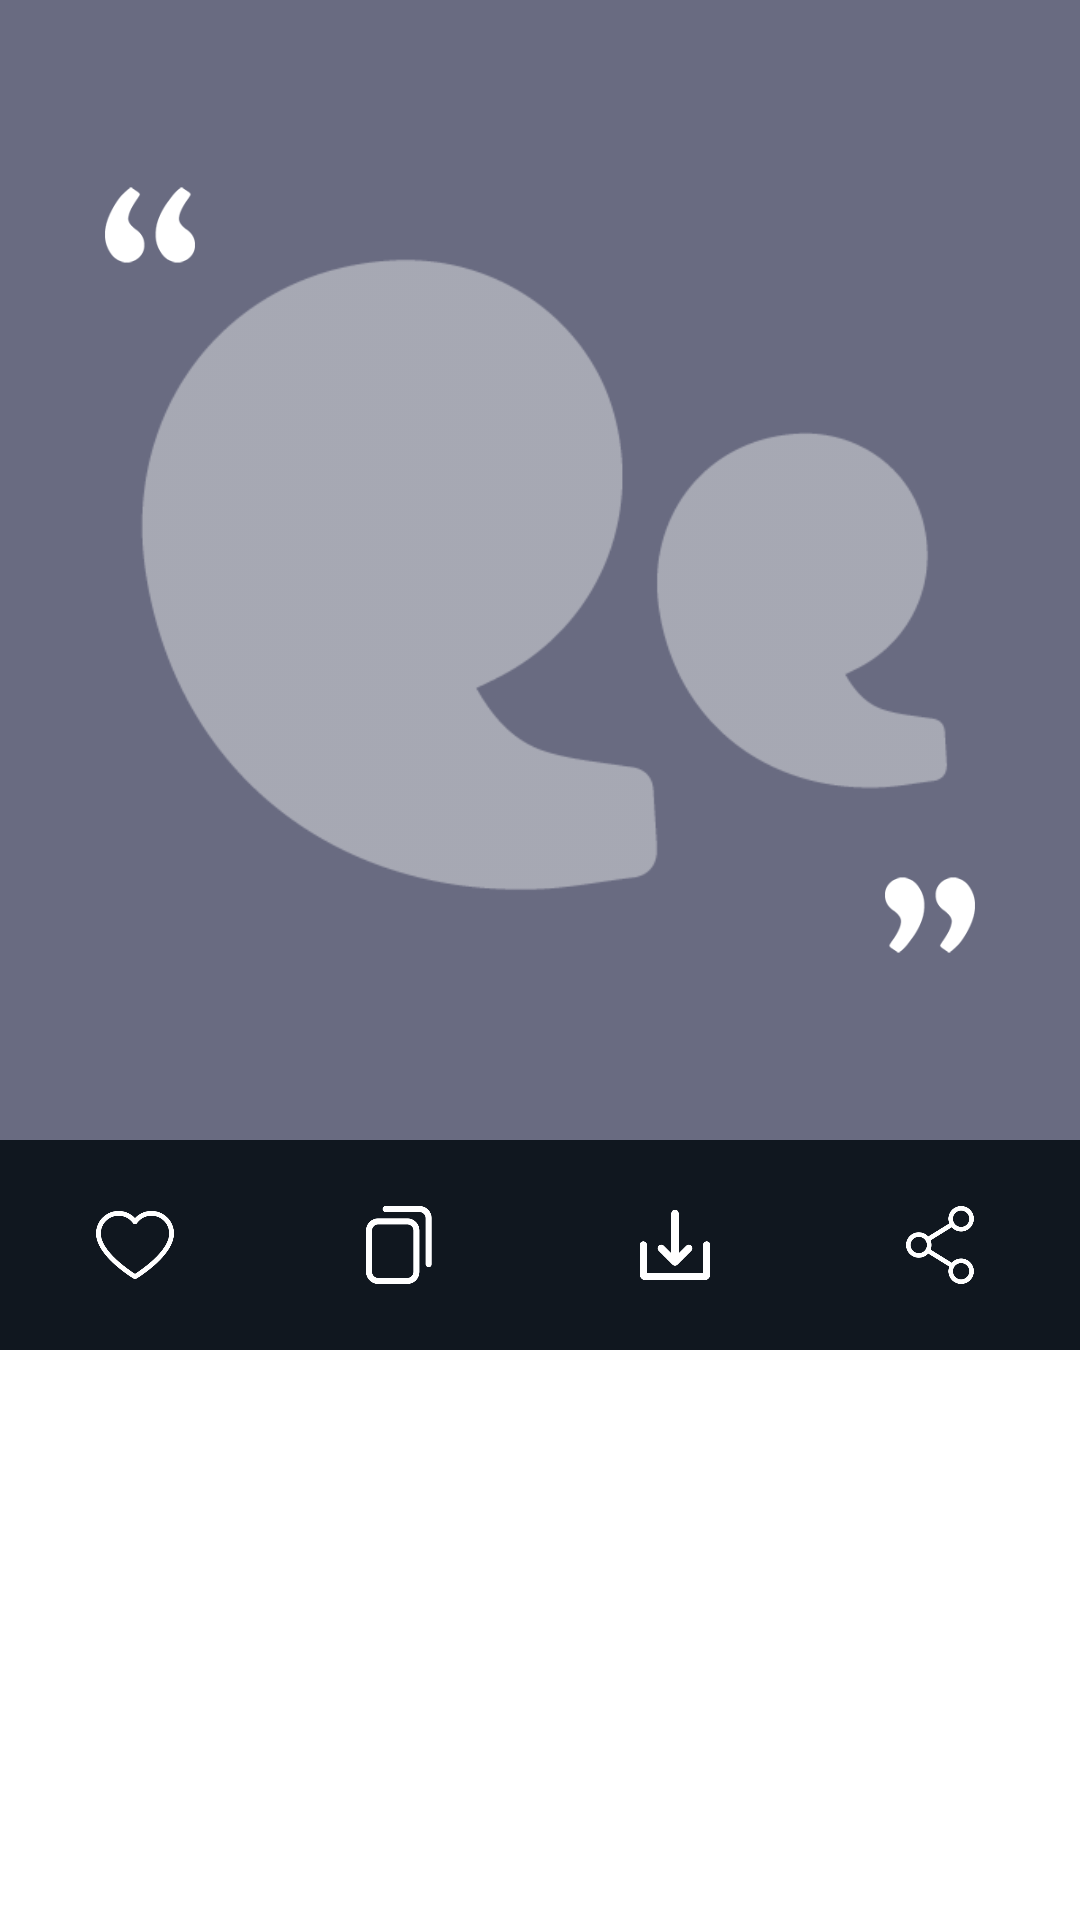

Screen size 1080×1920. Icon name, then its center in pixels as [x,y]:
like: [135,1245]
save: [675,1245]
share: [940,1245]
